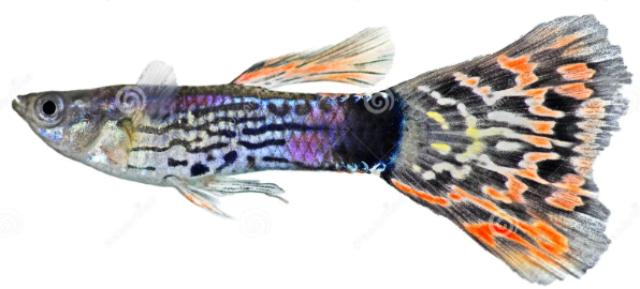Mulut: (2, 82, 52, 144)
Sirip Anal: (207, 164, 303, 212)
Sirip Dada: (93, 50, 189, 176)
Sirip Ekor: (371, 7, 635, 288)
Sirip Perut: (152, 165, 236, 237)
Sirip Punggung: (225, 19, 417, 107)
